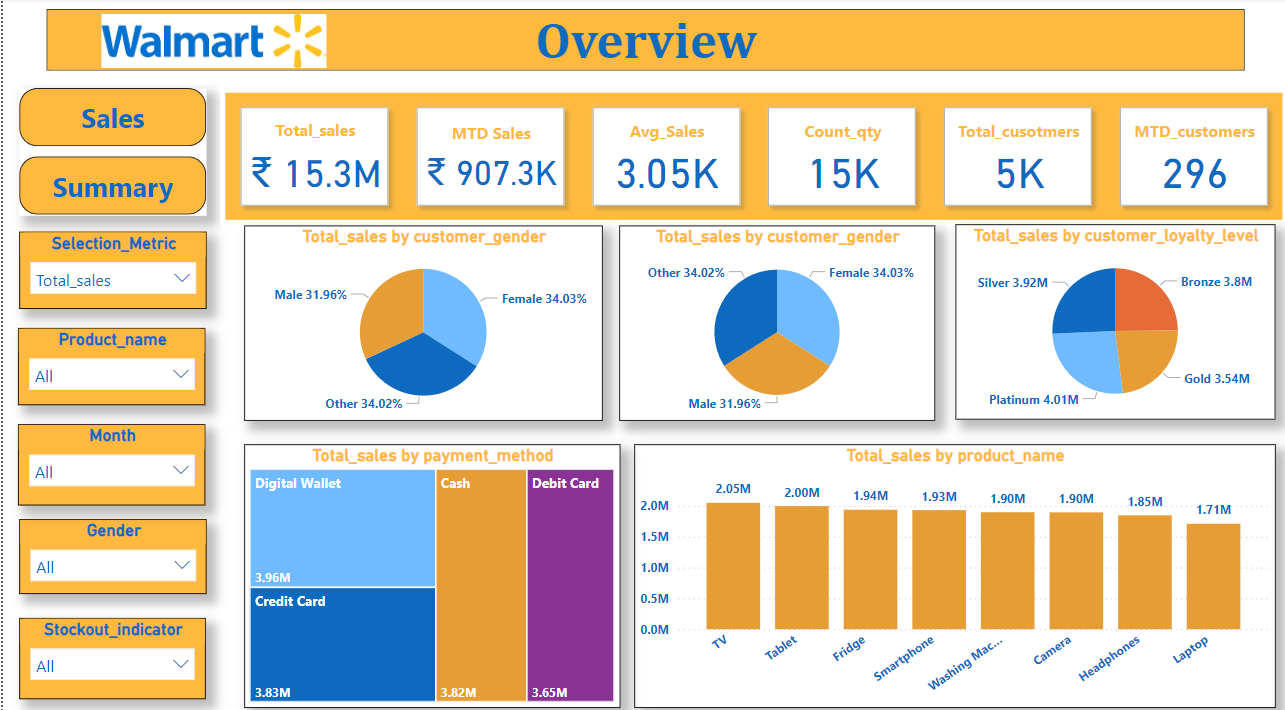

Layout of this report page (visuals, bound fields, positions):
{"tool":"powerbi","page":{"name":"Overview","canvas":[1280,720],"ordinal":0},"visuals":[{"type":"textbox","title":"Overview","box":[43.5,11.2,1191.7,61],"z":0},{"type":"pageNavigator","box":[16.2,89.6,186.6,126.9],"z":1000},{"type":"cardVisual","fields":{"Data":["Dim_date.Total_sales","Dim_date.MTD","Dim_date.Avg_Sales","Dim_date.Count_qty","Dim_date.Total_cusotmers","Dim_date.MTD_customers"]},"box":[216.1,89.5,1064.1,136.9],"z":2000},{"type":"slicer","title":"Gender","fields":{"Values":["Walmart.customer_gender"]},"box":[16.2,518.7,186.6,74.6],"z":3000},{"type":"slicer","title":"Product_name","fields":{"Values":["Walmart.product_name"]},"box":[14.9,328.4,186.6,77.1],"z":4000},{"type":"image","box":[43.5,11.2,332.1,63.4],"z":5000},{"type":"slicer","title":"Stockout_indicator","fields":{"Values":["Walmart.stockout_indicator"]},"box":[16.2,617,185.3,80.9],"z":6000},{"type":"slicer","title":"Month","fields":{"Values":["Dim_date.Date.Variation.Date Hierarchy.Month"]},"box":[14.9,424.2,186.6,80.9],"z":7000},{"type":"slicer","title":"Selection_Metric","fields":{"Values":["Metric.Parameter"]},"box":[16.2,232.6,186.6,77.1],"z":8000},{"type":"pieChart","fields":{"Y":["Dim_date.Total_sales"],"Category":["Walmart.customer_gender"]},"box":[240.1,226.4,357,194.1],"z":9000},{"type":"pieChart","fields":{"Y":["Dim_date.Total_sales"],"Series":["Walmart.customer_gender"]},"box":[613.3,226.4,314.7,194.1],"z":10000},{"type":"pieChart","fields":{"Y":["Dim_date.Total_sales"],"Series":["Walmart.customer_loyalty_level"]},"box":[947.9,225.2,318.5,194.1],"z":11000},{"type":"clusteredColumnChart","fields":{"Y":["Dim_date.Total_sales"],"Category":["Walmart.product_name"]},"box":[628.2,444.1,638.2,262.5],"z":12000},{"type":"treemap","fields":{"Values":["Dim_date.Total_sales"],"Group":["Walmart.payment_method"]},"box":[240.1,444.1,374.4,262.5],"z":13000}]}

Visuals, with their boxes in screenshot pixels (x1, y1, x2, y2), scaled from the page's 1280x720 canvas onto the 1285x710 screenshot:
"Overview" textbox: region(44, 11, 1240, 71)
pageNavigator: region(16, 88, 204, 213)
cardVisual - Dim_date.Total_sales x Dim_date.MTD: region(217, 88, 1284, 223)
"Gender" slicer: region(16, 511, 204, 585)
"Product_name" slicer: region(15, 324, 202, 400)
image: region(44, 11, 377, 74)
"Stockout_indicator" slicer: region(16, 608, 202, 688)
"Month" slicer: region(15, 418, 202, 498)
"Selection_Metric" slicer: region(16, 229, 204, 305)
pieChart - Dim_date.Total_sales x Walmart.customer_gender: region(241, 223, 599, 415)
pieChart - Dim_date.Total_sales x Walmart.customer_gender: region(616, 223, 932, 415)
pieChart - Dim_date.Total_sales x Walmart.customer_loyalty_level: region(952, 222, 1271, 413)
clusteredColumnChart - Dim_date.Total_sales x Walmart.product_name: region(631, 438, 1271, 697)
treemap - Dim_date.Total_sales x Walmart.payment_method: region(241, 438, 617, 697)
